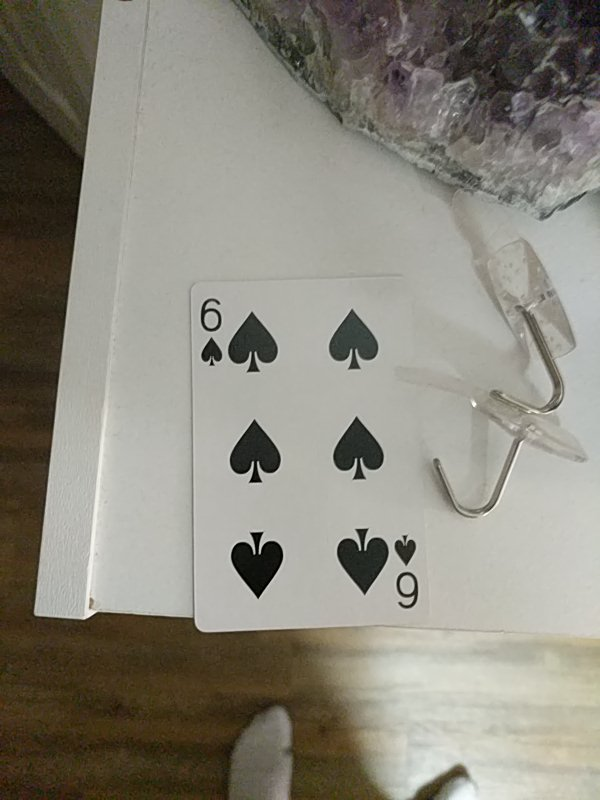Spades: (191, 276, 435, 630)
